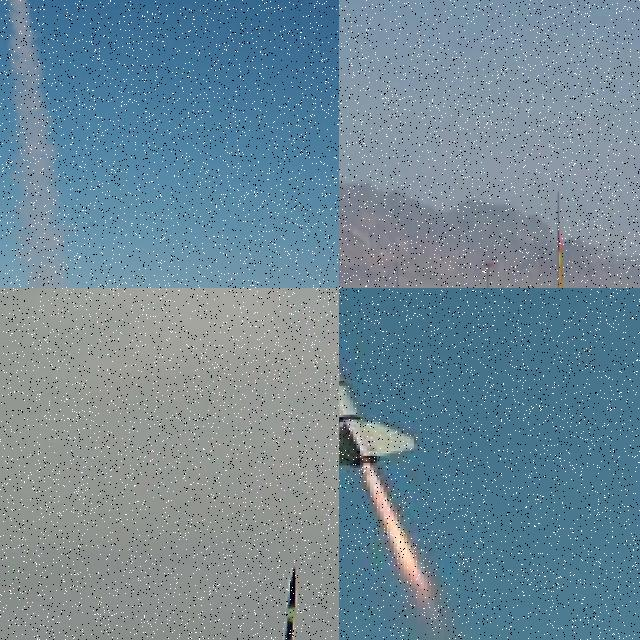Rocket: (271, 566, 296, 640), (555, 233, 563, 288)
